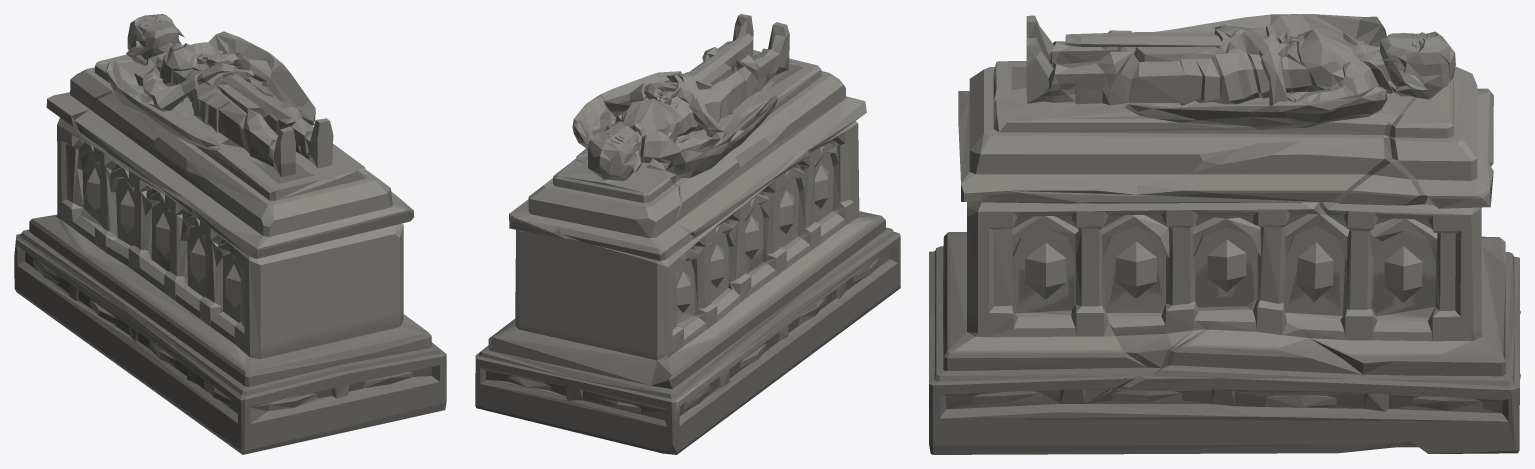
Rendered from ud_bld_supply.gltf.
3 renders of one model, left to right at view 1: azimuth 30°, elevation 25°; view 2: azimuth 150°, elevation 25°; view 3: azimuth 270°, elevation 25°, orthographic. The views are drawn at different scales.
Visible parts, largest first — view 1: ud_bld_supply; view 2: ud_bld_supply; view 3: ud_bld_supply.
Part boxes in pixels (left/top/right/bottom): ud_bld_supply: left=14, top=14, right=446, bottom=454; ud_bld_supply: left=475, top=14, right=900, bottom=454; ud_bld_supply: left=929, top=14, right=1520, bottom=454.
Size of the model in its own units: 1.36 by 1.78 by 2.62.
1 material, 1 textured.
